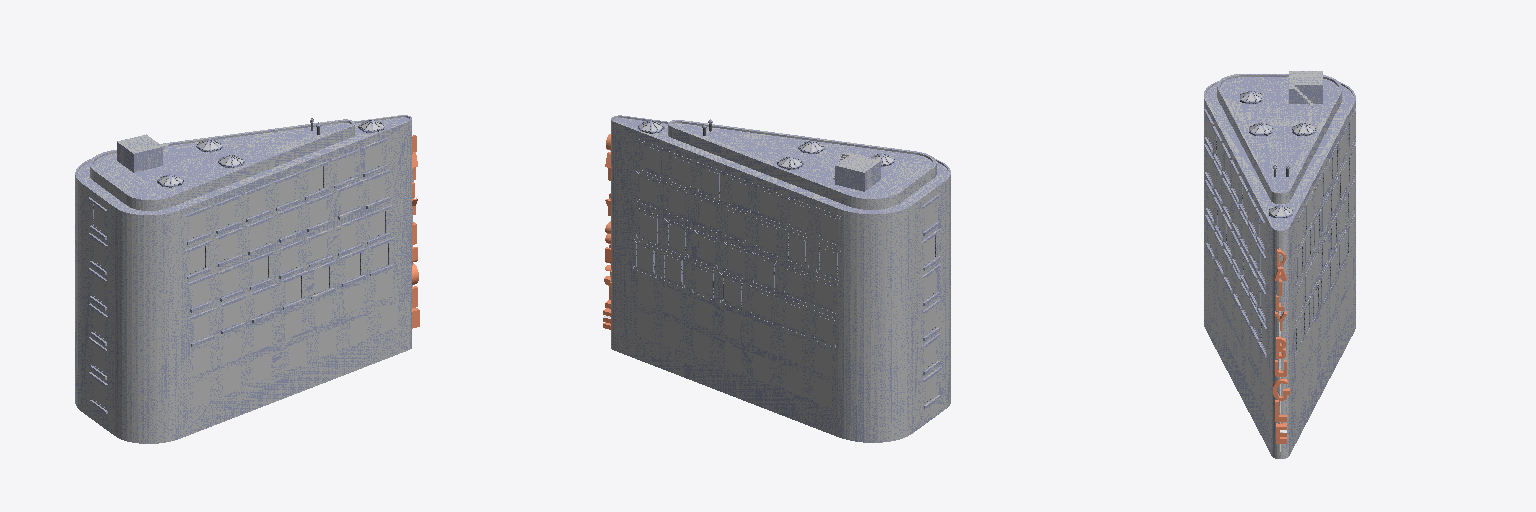
File: daiylybug.obj
3 views of the same model, side by side, from view 1: azimuth 30°, elevation 25°; view 2: azimuth 150°, elevation 25°; view 3: azimuth 270°, elevation 25° (orthographic).
Parts seen in each view (by area): view 1: SketchUp_ID4, SketchUp.014_ID158, SketchUp.005_ID70, SketchUp.001_ID25, SketchUp.006_ID80, SketchUp.009_ID110; view 2: SketchUp_ID4, SketchUp.014_ID158, SketchUp.005_ID70, SketchUp.001_ID25, SketchUp.006_ID80, SketchUp.009_ID110, SketchUp.008_ID100; view 3: SketchUp_ID4, SketchUp.014_ID158, SketchUp.001_ID25, SketchUp.005_ID70, SketchUp.006_ID80, SketchUp.002_ID40, SketchUp.008_ID100, SketchUp.009_ID110.
Boxes of the visible parts, x1=… form: SketchUp_ID4: x1=75, y1=116, x2=411, y2=443; SketchUp.014_ID158: x1=93, y1=123, x2=350, y2=198; SketchUp.005_ID70: x1=90, y1=125, x2=354, y2=210; SketchUp.001_ID25: x1=77, y1=117, x2=409, y2=214; SketchUp.006_ID80: x1=90, y1=119, x2=354, y2=199; SketchUp.009_ID110: x1=117, y1=142, x2=168, y2=172; SketchUp_ID4: x1=611, y1=117, x2=950, y2=442; SketchUp.014_ID158: x1=672, y1=123, x2=932, y2=197; SketchUp.005_ID70: x1=668, y1=125, x2=936, y2=209; SketchUp.001_ID25: x1=614, y1=118, x2=948, y2=213; SketchUp.006_ID80: x1=668, y1=120, x2=936, y2=198; SketchUp.009_ID110: x1=835, y1=161, x2=880, y2=191; SketchUp.008_ID100: x1=833, y1=152, x2=880, y2=179; SketchUp_ID4: x1=1204, y1=99, x2=1355, y2=458; SketchUp.014_ID158: x1=1221, y1=77, x2=1338, y2=191; SketchUp.001_ID25: x1=1206, y1=84, x2=1353, y2=229; SketchUp.005_ID70: x1=1217, y1=87, x2=1341, y2=203; SketchUp.006_ID80: x1=1217, y1=74, x2=1341, y2=193; SketchUp.002_ID40: x1=1204, y1=81, x2=1355, y2=230; SketchUp.008_ID100: x1=1289, y1=71, x2=1322, y2=107; SketchUp.009_ID110: x1=1289, y1=85, x2=1322, y2=103.
Bounding box in the file's own units: 14.38 × 10.85 × 5.88.